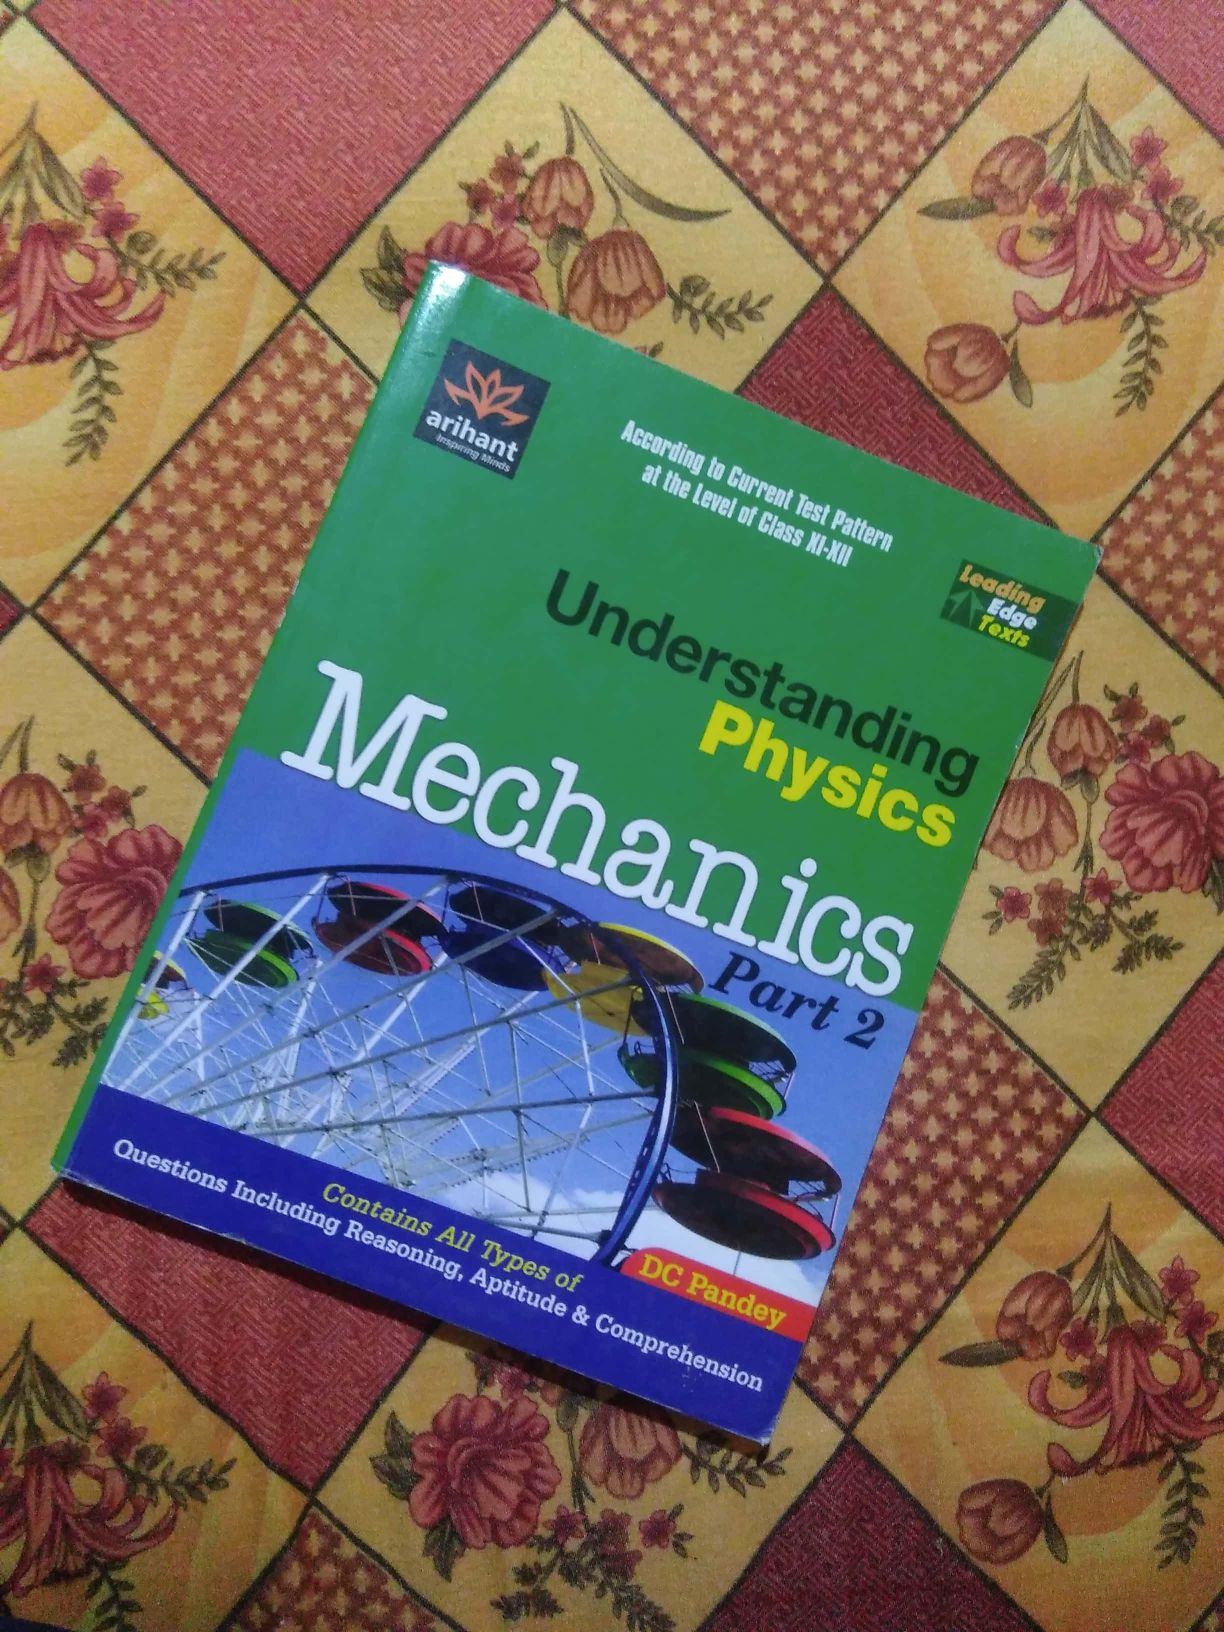mechanics: (114, 314, 1038, 1390)
